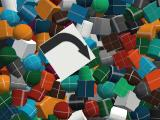Right: (38, 23, 96, 81)
